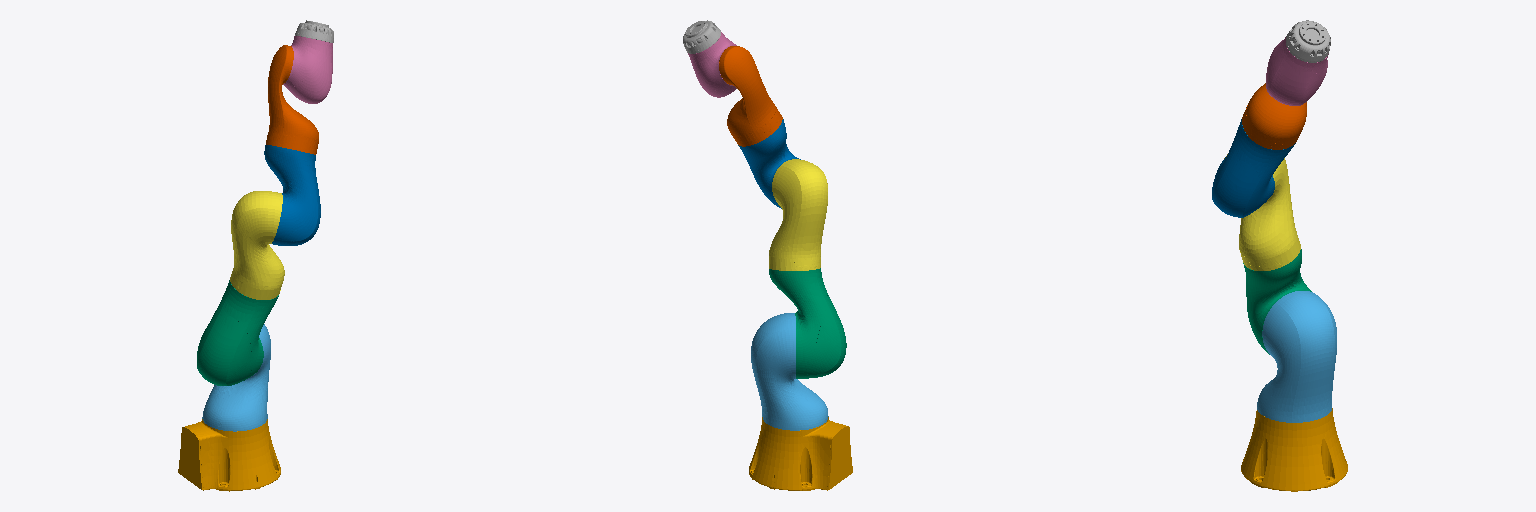
URDF robot description (iiwa_14_5DOF_gripper):
<?xml version="1.0" encoding="UTF-8"?>
<robot name="iiwa_14_5DOF_gripper">
  <joint name="iiwa_joint_1" type="revolute">
    <origin xyz="0. 0. 0.1575" rpy="0. 0. 0."/>
    <parent link="world"/>
    <child link="iiwa_link_1"/>
    <axis xyz="0. 0. 1."/>
    <limit lower="-2.9670597" upper="2.9670595" effort="300." velocity="9.9999995"/>
  </joint>
  <joint name="iiwa_joint_2" type="revolute">
    <origin xyz="0.0000001 -0. 0.2025 " rpy="1.5707963 0.0000002 -1.022772 "/>
    <parent link="iiwa_link_1"/>
    <child link="iiwa_link_2"/>
    <axis xyz="0. 0. 1."/>
    <limit lower="-2.0943951" upper="2.0943951" effort="300." velocity="9.9999995"/>
  </joint>
  <joint name="iiwa_joint_3" type="revolute">
    <origin xyz="0.0601307 0.1954598 -0. " rpy="1.5707964 0. 2.8431444"/>
    <parent link="iiwa_link_2"/>
    <child link="iiwa_link_3"/>
    <axis xyz="0. 0. 1."/>
    <limit lower="-2.9670595" upper="2.9670595" effort="300." velocity="9.9999995"/>
  </joint>
  <joint name="iiwa_joint_4" type="revolute">
    <origin xyz="-0. 0. 0.2154999" rpy="1.5707963 -0.0000001 -1.0402164"/>
    <parent link="iiwa_link_3"/>
    <child link="iiwa_link_4"/>
    <axis xyz="0. 0. 1."/>
    <limit lower="-2.0943951" upper="2.0943951" effort="300." velocity="9.9999995"/>
  </joint>
  <joint name="iiwa_joint_5" type="revolute">
    <origin xyz="0.1042361 0.1522336 -0. " rpy="1.5707965 -0. 2.541201 "/>
    <parent link="iiwa_link_4"/>
    <child link="iiwa_link_5"/>
    <axis xyz="0. 0. 1."/>
    <limit lower="-2.9670595" upper="2.9670595" effort="300." velocity="9.9999995"/>
  </joint>
  <joint name="iiwa_joint_6" type="revolute">
    <origin xyz="0.0000001 0. 0.2155 " rpy="1.5707964 -0.0000003 -2.9670594"/>
    <parent link="iiwa_link_5"/>
    <child link="iiwa_link_6"/>
    <axis xyz="0. 0. 1."/>
    <limit lower="0." upper="0." effort="300." velocity="9.9999995"/>
  </joint>
  <joint name="iiwa_joint_7" type="revolute">
    <origin xyz="-0. 0.0809999 -0. " rpy="1.5707965 -0.0000001 3.1415925"/>
    <parent link="iiwa_link_6"/>
    <child link="iiwa_link_7"/>
    <axis xyz="0. 0. 1."/>
    <limit lower="0." upper="0." effort="300." velocity="9.9999995"/>
  </joint>
  <joint name="root_joint" type="fixed">
    <origin xyz="0. -0. 0." rpy="0. 0. 0."/>
    <parent link="iiwa14"/>
    <child link="world"/>
  </joint>
  <link name="iiwa14"/>
  <link name="iiwa_link_1">
    <inertial>
      <origin xyz="0. -0.03 0.12" rpy="0. 0. 0."/>
      <mass value="4."/>
      <inertia ixx="0.1" ixy="0." ixz="0." iyy="0.09" iyz="0." izz="0.02"/>
    </inertial>
    <visual>
      <origin xyz="0. 0. -0." rpy="0.0000001 -0.0000002 2.1188207"/>
      <geometry>
        <mesh filename="meshes/iiwa_link_1_visuals_link_1_mesh.obj" scale="1. 1. 1."/>
      </geometry>
    </visual>
    <visual>
      <origin xyz="0. 0. -0." rpy="0.0000001 -0.0000002 2.1188207"/>
      <geometry>
        <mesh filename="meshes/iiwa_link_1_collisions_link_1_mesh.obj" scale="1. 1. 1."/>
      </geometry>
    </visual>
  </link>
  <link name="iiwa_link_2">
    <inertial>
      <origin xyz="0.0003 0.059 0.042 " rpy="0. 0. 0."/>
      <mass value="4."/>
      <inertia ixx="0.05" ixy="0." ixz="0." iyy="0.018" iyz="0." izz="0.044"/>
    </inertial>
    <visual>
      <origin xyz="-0. -0. -0." rpy="-0.0000001 -0. -0.2984483"/>
      <geometry>
        <mesh filename="meshes/iiwa_link_2_visuals_link_2_mesh.obj" scale="1. 1. 1."/>
      </geometry>
    </visual>
    <visual>
      <origin xyz="-0. -0. -0." rpy="-0.0000001 -0. -0.2984483"/>
      <geometry>
        <mesh filename="meshes/iiwa_link_2_collisions_link_2_mesh.obj" scale="1. 1. 1."/>
      </geometry>
    </visual>
  </link>
  <link name="iiwa_link_3">
    <inertial>
      <origin xyz="0. 0.03 0.13" rpy="0. 0. 0."/>
      <mass value="3."/>
      <inertia ixx="0.08" ixy="0." ixz="0." iyy="0.075" iyz="0." izz="0.01"/>
    </inertial>
    <visual>
      <origin xyz="-0. 0. -0.0000001" rpy="-0.0000001 -0.0000001 -1.0402164"/>
      <geometry>
        <mesh filename="meshes/iiwa_link_3_visuals_link_3_mesh.obj" scale="1. 1. 1."/>
      </geometry>
    </visual>
    <visual>
      <origin xyz="-0. 0. -0.0000001" rpy="-0.0000001 -0.0000001 -1.0402164"/>
      <geometry>
        <mesh filename="meshes/iiwa_link_3_collisions_link_3_mesh.obj" scale="1. 1. 1."/>
      </geometry>
    </visual>
  </link>
  <link name="iiwa_link_4">
    <inertial>
      <origin xyz="0. 0.067 0.034" rpy="0. 0. 0."/>
      <mass value="2.7"/>
      <inertia ixx="0.03" ixy="0." ixz="0." iyy="0.01" iyz="0." izz="0.029"/>
    </inertial>
    <visual>
      <origin xyz="0. -0. -0." rpy="-0.0000002 -0.0000001 -0.6003914"/>
      <geometry>
        <mesh filename="meshes/iiwa_link_4_visuals_link_4_mesh.obj" scale="1. 1. 1."/>
      </geometry>
    </visual>
    <visual>
      <origin xyz="0. -0. -0." rpy="-0.0000002 -0.0000001 -0.6003914"/>
      <geometry>
        <mesh filename="meshes/iiwa_link_4_collisions_link_4_mesh.obj" scale="1. 1. 1."/>
      </geometry>
    </visual>
  </link>
  <link name="iiwa_link_5">
    <inertial>
      <origin xyz="0.0001 0.021 0.076 " rpy="0. 0. 0."/>
      <mass value="1.7"/>
      <inertia ixx="0.02" ixy="0." ixz="0." iyy="0.018" iyz="0." izz="0.005"/>
    </inertial>
    <visual>
      <origin xyz="0. 0. -0." rpy="0. -0.0000003 -2.9670594"/>
      <geometry>
        <mesh filename="meshes/iiwa_link_5_visuals_link_5_mesh.obj" scale="1. 1. 1."/>
      </geometry>
    </visual>
    <visual>
      <origin xyz="0. 0. -0." rpy="0. -0.0000003 -2.9670594"/>
      <geometry>
        <mesh filename="meshes/iiwa_link_5_collisions_link_5_mesh.obj" scale="1. 1. 1."/>
      </geometry>
    </visual>
  </link>
  <link name="iiwa_link_6">
    <inertial>
      <origin xyz="0. 0.0006 0.0004" rpy="0. 0. 0."/>
      <mass value="1.8"/>
      <inertia ixx="0.005" ixy="0." ixz="0." iyy="0.0036" iyz="0." izz="0.0047"/>
    </inertial>
    <visual>
      <origin xyz="-0. -0.0000001 0. " rpy="-0.0000001 -0. -0.0000001"/>
      <geometry>
        <mesh filename="meshes/iiwa_link_6_visuals_link_6_mesh.obj" scale="1. 1. 1."/>
      </geometry>
    </visual>
    <visual>
      <origin xyz="-0. -0.0000001 0. " rpy="-0.0000001 -0. -0.0000001"/>
      <geometry>
        <mesh filename="meshes/iiwa_link_6_collisions_link_6_mesh.obj" scale="1. 1. 1."/>
      </geometry>
    </visual>
  </link>
  <link name="iiwa_link_7">
    <inertial>
      <origin xyz="0. 0. 0.02" rpy="0. 0. 0."/>
      <mass value="0.3"/>
      <inertia ixx="0.001" ixy="0." ixz="0." iyy="0.001" iyz="0." izz="0.001"/>
    </inertial>
    <visual>
      <origin xyz="-0. 0. -0." rpy="-0.0000001 0.0000001 0. "/>
      <geometry>
        <mesh filename="meshes/iiwa_link_7_visuals_link_7_mesh.obj" scale="1. 1. 1."/>
      </geometry>
    </visual>
    <visual>
      <origin xyz="-0. 0. -0." rpy="-0.0000001 0.0000001 0. "/>
      <geometry>
        <mesh filename="meshes/iiwa_link_7_collisions_link_7_mesh.obj" scale="1. 1. 1."/>
      </geometry>
    </visual>
  </link>
  <link name="world">
    <inertial>
      <origin xyz="-0.1 0. 0.07" rpy="0. 0. 0."/>
      <mass value="5."/>
      <inertia ixx="0.05" ixy="0." ixz="0." iyy="0.06" iyz="0." izz="0.03"/>
    </inertial>
    <visual>
      <origin xyz="0. 0. 0." rpy="0. 0. 0."/>
      <geometry>
        <mesh filename="meshes/world_visuals_link_0_mesh.obj" scale="1. 1. 1."/>
      </geometry>
    </visual>
    <visual>
      <origin xyz="0. 0. 0." rpy="0. 0. 0."/>
      <geometry>
        <mesh filename="meshes/world_collisions_link_0_mesh.obj" scale="1. 1. 1."/>
      </geometry>
    </visual>
  </link>
</robot>

--- What the picture shows (computed from the rendered views, not written in the file) ---
The picture shows the robot from 3 angles, left to right: view 1: azimuth 30°, elevation 25°; view 2: azimuth 150°, elevation 25°; view 3: azimuth 270°, elevation 25°; orthographic projection.
Robot: iiwa_14_5DOF_gripper — 9 links, 8 joints (7 revolute, 1 fixed); root link iiwa14; default pose: all joints at 0.
Visible links, largest first — view 1: world, iiwa_link_2, iiwa_link_3, iiwa_link_4, iiwa_link_1, iiwa_link_5, iiwa_link_6, iiwa_link_7; view 2: world, iiwa_link_1, iiwa_link_3, iiwa_link_2, iiwa_link_5, iiwa_link_4, iiwa_link_6, iiwa_link_7; view 3: iiwa_link_1, world, iiwa_link_4, iiwa_link_3, iiwa_link_5, iiwa_link_6, iiwa_link_2, iiwa_link_7.
Link boxes in pixels (x1=…): world: x1=178, y1=419, x2=280, y2=491; iiwa_link_2: x1=197, y1=280, x2=278, y2=385; iiwa_link_3: x1=230, y1=191, x2=284, y2=299; iiwa_link_4: x1=264, y1=145, x2=320, y2=245; iiwa_link_1: x1=202, y1=324, x2=270, y2=431; iiwa_link_5: x1=266, y1=45, x2=318, y2=154; iiwa_link_6: x1=283, y1=36, x2=332, y2=103; iiwa_link_7: x1=295, y1=20, x2=333, y2=42; world: x1=749, y1=417, x2=852, y2=490; iiwa_link_1: x1=751, y1=313, x2=828, y2=430; iiwa_link_3: x1=769, y1=159, x2=827, y2=270; iiwa_link_2: x1=769, y1=268, x2=846, y2=378; iiwa_link_5: x1=719, y1=46, x2=782, y2=146; iiwa_link_4: x1=738, y1=119, x2=800, y2=208; iiwa_link_6: x1=688, y1=32, x2=736, y2=97; iiwa_link_7: x1=683, y1=20, x2=720, y2=53; iiwa_link_1: x1=1257, y1=291, x2=1336, y2=422; world: x1=1241, y1=408, x2=1347, y2=491; iiwa_link_4: x1=1212, y1=119, x2=1295, y2=217; iiwa_link_3: x1=1224, y1=154, x2=1300, y2=270; iiwa_link_5: x1=1242, y1=83, x2=1306, y2=149; iiwa_link_6: x1=1266, y1=37, x2=1328, y2=105; iiwa_link_2: x1=1243, y1=249, x2=1311, y2=354; iiwa_link_7: x1=1286, y1=20, x2=1330, y2=62.
Bounding box of the posed robot: 0.4474 × 0.309 × 1.24 m (x, y, z).
14 mesh visuals loaded from 16 distinct referenced files (14 OBJ); not drawn: 2 (reference not matched to a file when rendering).
